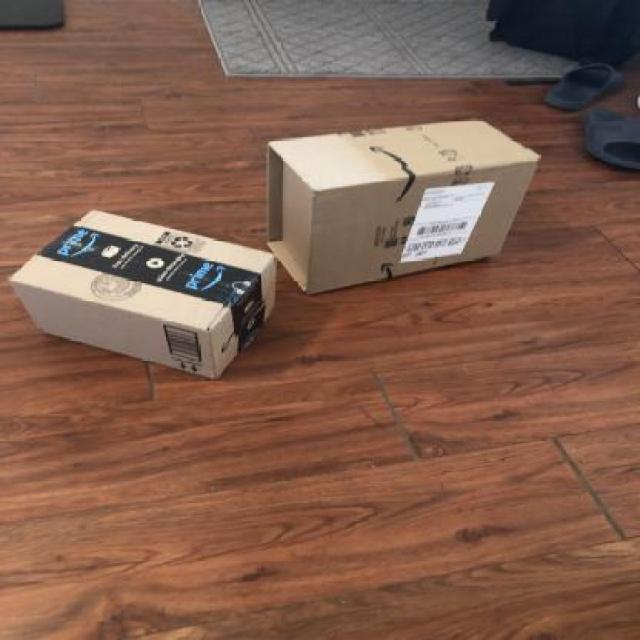cardboxes: (1, 202, 287, 388), (264, 115, 547, 300)
